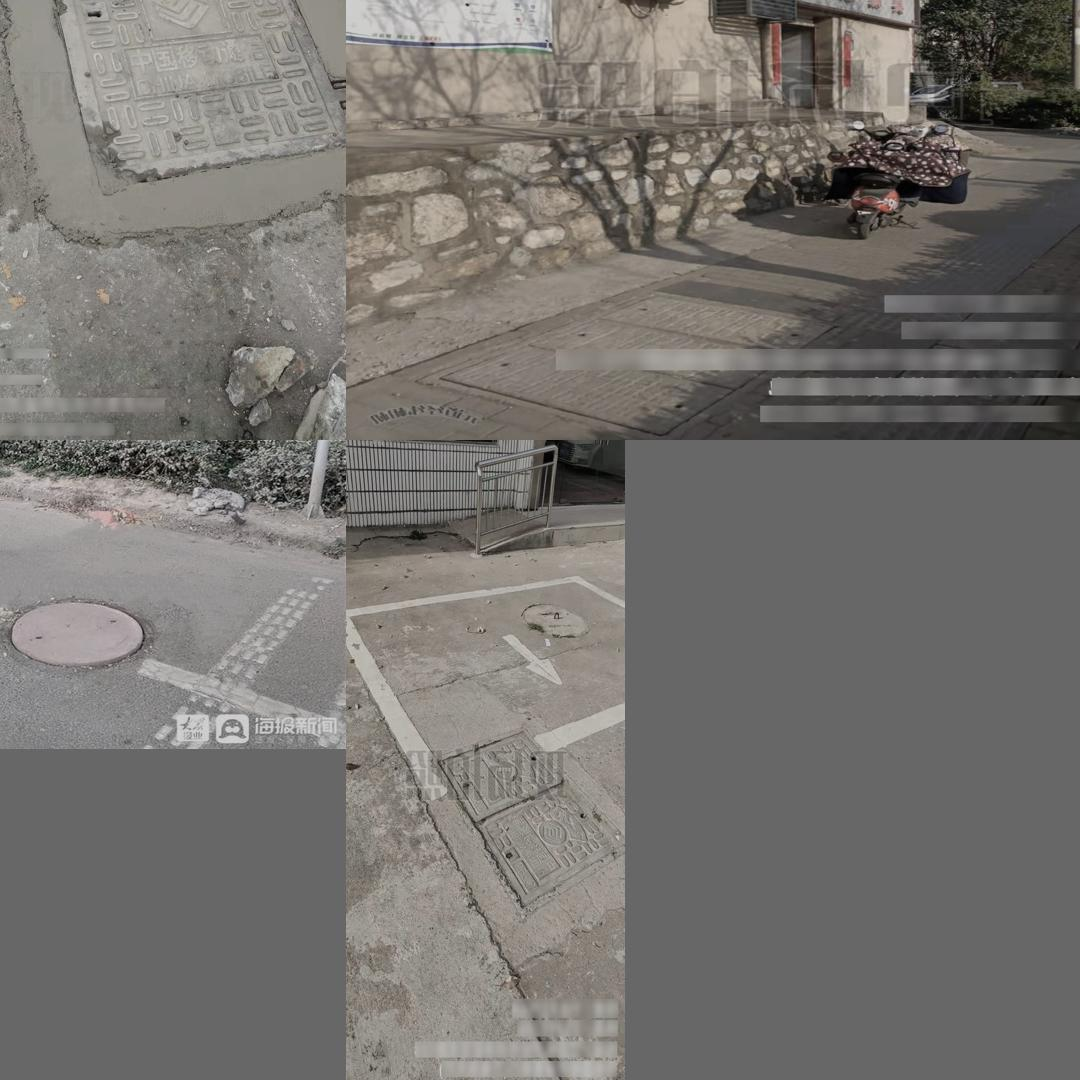good: (413, 293, 840, 438), (29, 0, 346, 193), (435, 724, 624, 915), (0, 590, 169, 675)
